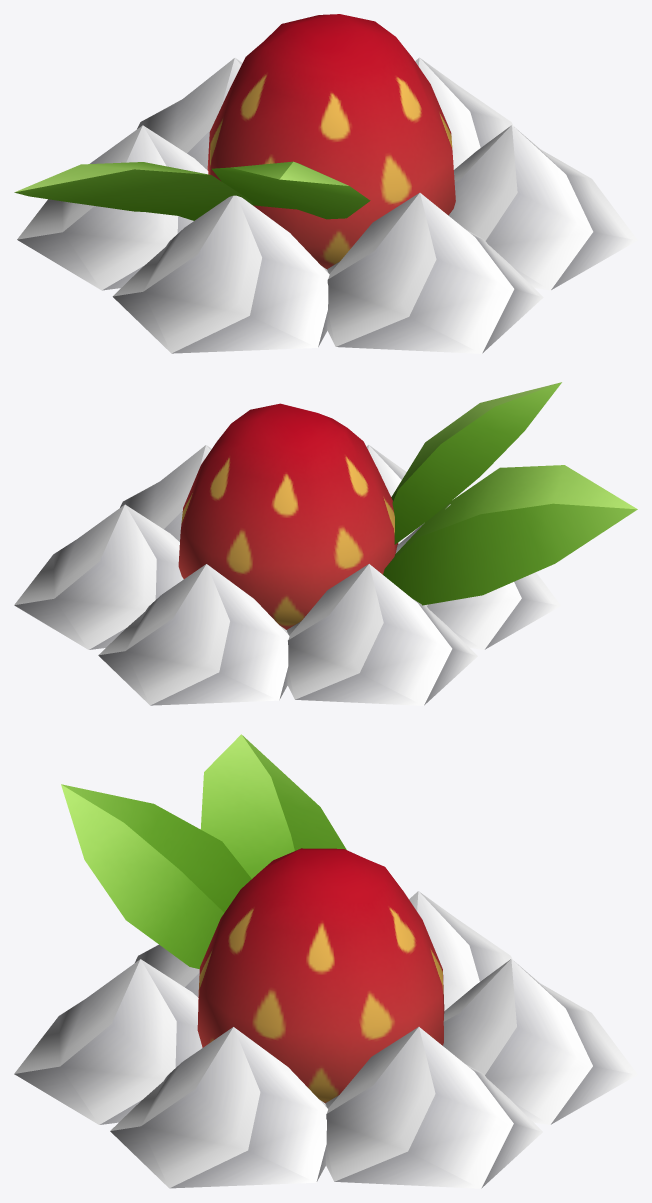
Rendered from m_StrawberryCake01_Deco.fbx.
3 renders of one model, top to bottom at view 1: azimuth 30°, elevation 25°; view 2: azimuth 150°, elevation 25°; view 3: azimuth 270°, elevation 25°, orthographic. The views are drawn at different scales.
Visible parts, largest first — view 1: m_StrawberryCake01_Deco; view 2: m_StrawberryCake01_Deco; view 3: m_StrawberryCake01_Deco.
Boxes of the visible parts, box(x1,y1,x2,y2) form: m_StrawberryCake01_Deco: box(14, 14, 637, 353); m_StrawberryCake01_Deco: box(14, 382, 637, 705); m_StrawberryCake01_Deco: box(14, 734, 637, 1188).
Size of the model in its own units: 11.9 by 4.54 by 10.87.
